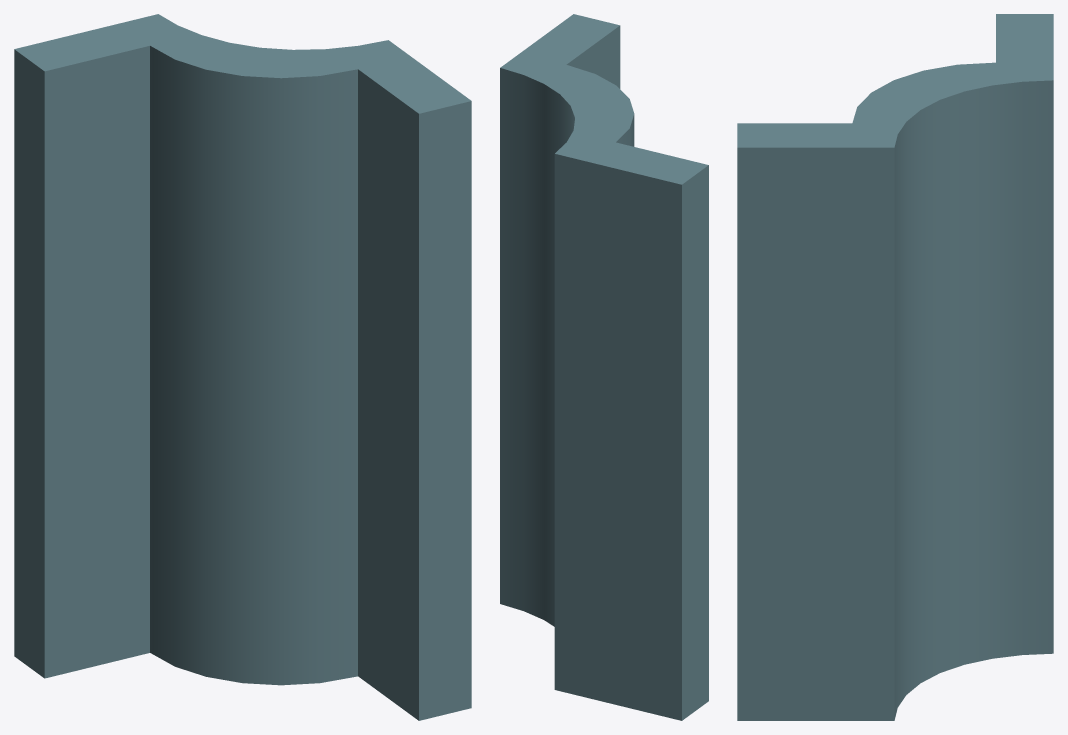
Rendered from W1_WallCorner_Round2A.fbx.
The picture shows the model from 3 angles, left to right: view 1: azimuth 30°, elevation 25°; view 2: azimuth 150°, elevation 25°; view 3: azimuth 270°, elevation 25°; orthographic projection. The views are drawn at different scales.
Visible parts, largest first — view 1: W1_WallCorner_Round2A.001; view 2: W1_WallCorner_Round2A.001; view 3: W1_WallCorner_Round2A.001.
Part boxes in pixels (x1,y1,x2,y2): W1_WallCorner_Round2A.001: (14,14,471,720); W1_WallCorner_Round2A.001: (500,14,708,720); W1_WallCorner_Round2A.001: (737,14,1053,720).
Bounding box in the file's own units: 1.1 × 2.2 × 1.1.
